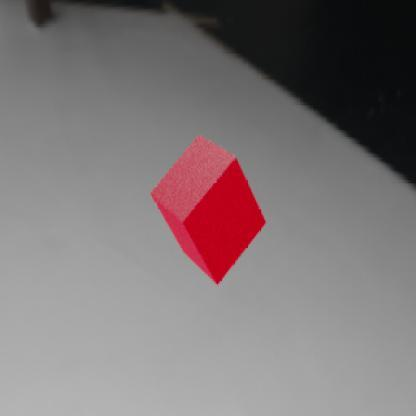cube: (148, 134, 267, 284)
